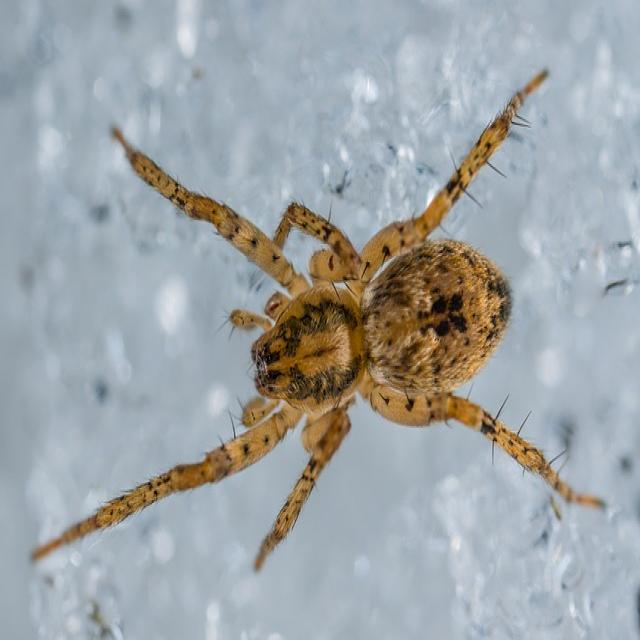spyder: (39, 72, 598, 566)
